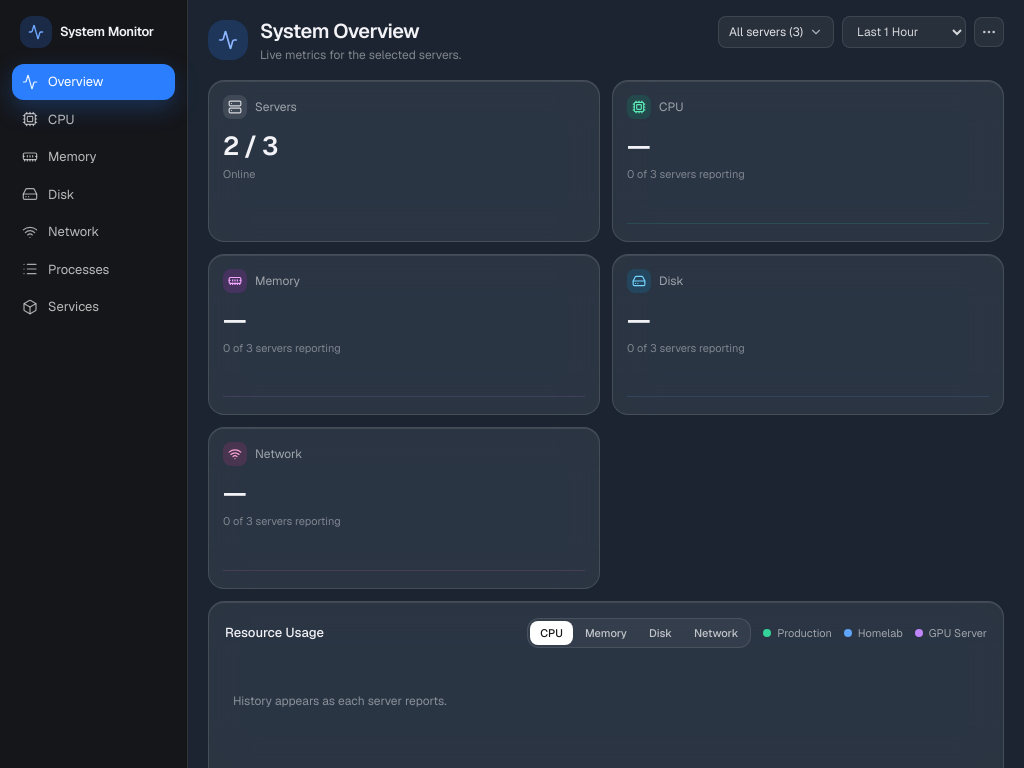
system monitor › lists every selected server and does not poll a disconnected one
This screenshot has width=1024, height=768.
Expected: the text "Production" is shown, [777,624,832,641]
Expected: the text "Homelab" is shown, [858,624,903,641]
Click the button "All servers (3)": [776, 32] box [718,16,834,48]
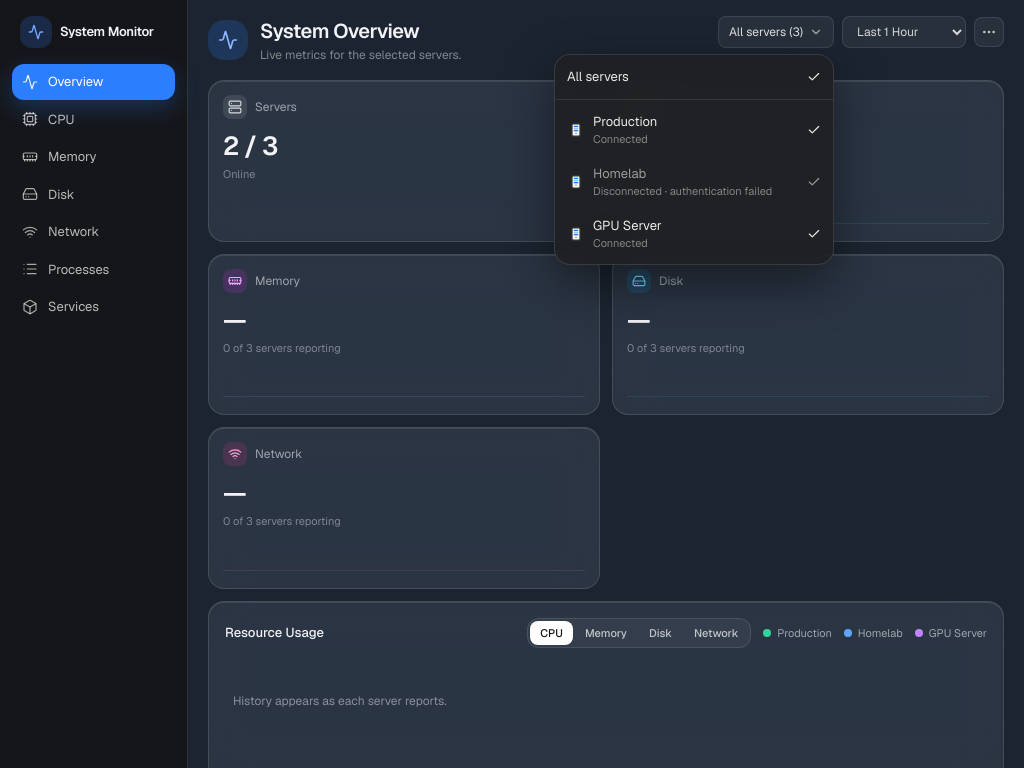
Expected: the menu item "Homelab Disconnected · authentication failed" is enabled, [555,156,833,208]
Expected: the text "Disconnected · authentication failed" is shown, [593,183,799,200]
